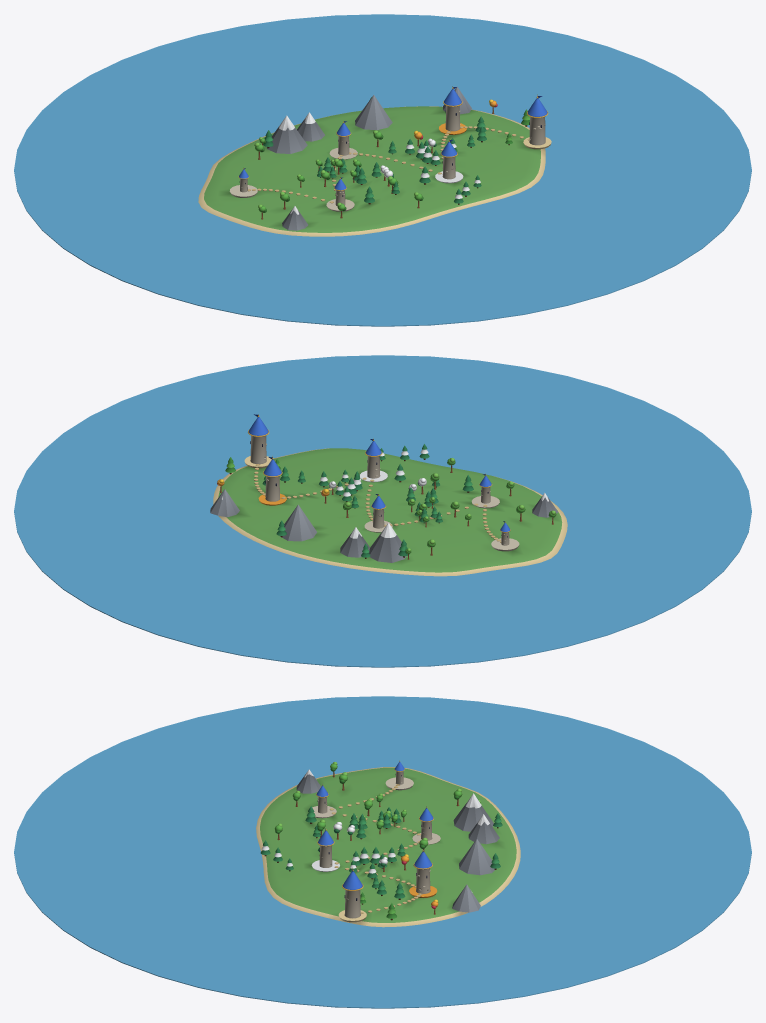
File: worldmap.glb
3 views of the same model, one above another, from view 1: azimuth 30°, elevation 25°; view 2: azimuth 150°, elevation 25°; view 3: azimuth 270°, elevation 25° (orthographic).
Visible parts, largest first — view 1: Island; view 2: Island; view 3: Island.
Boxes of the visible parts, bbox=[...] form: Island: bbox=[14, 14, 751, 326]; Island: bbox=[14, 355, 751, 667]; Island: bbox=[14, 696, 751, 1008].
Size of the model in its own units: 44 by 3.67 by 44.
1 material, 1 textured.
